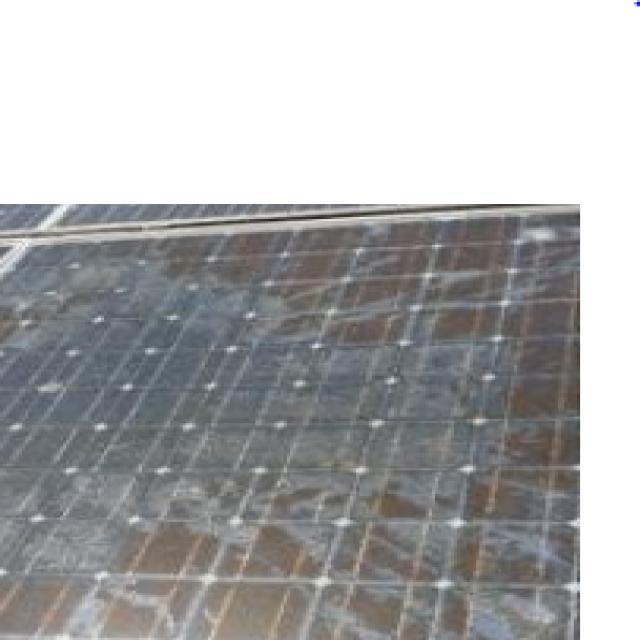faulty: (8, 206, 578, 635)
